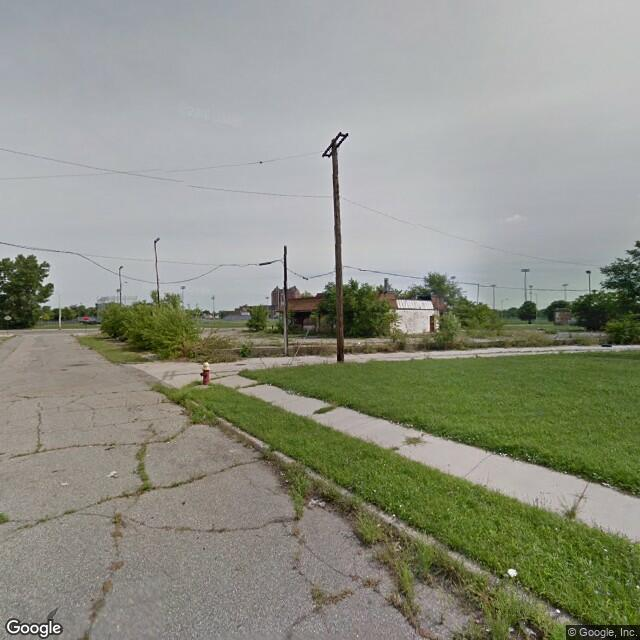litter: (308, 498, 325, 513), (509, 569, 518, 577), (356, 340, 362, 344)
